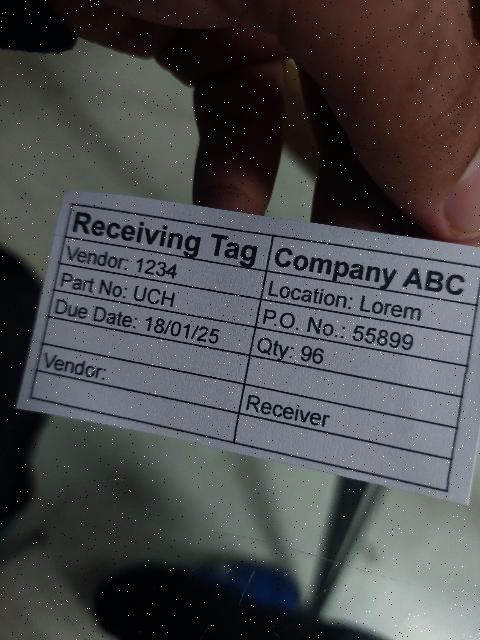PO no: (257, 298, 472, 365)
part no: (53, 264, 259, 327)
qty: (248, 331, 465, 398)
tags: (14, 191, 480, 508)
